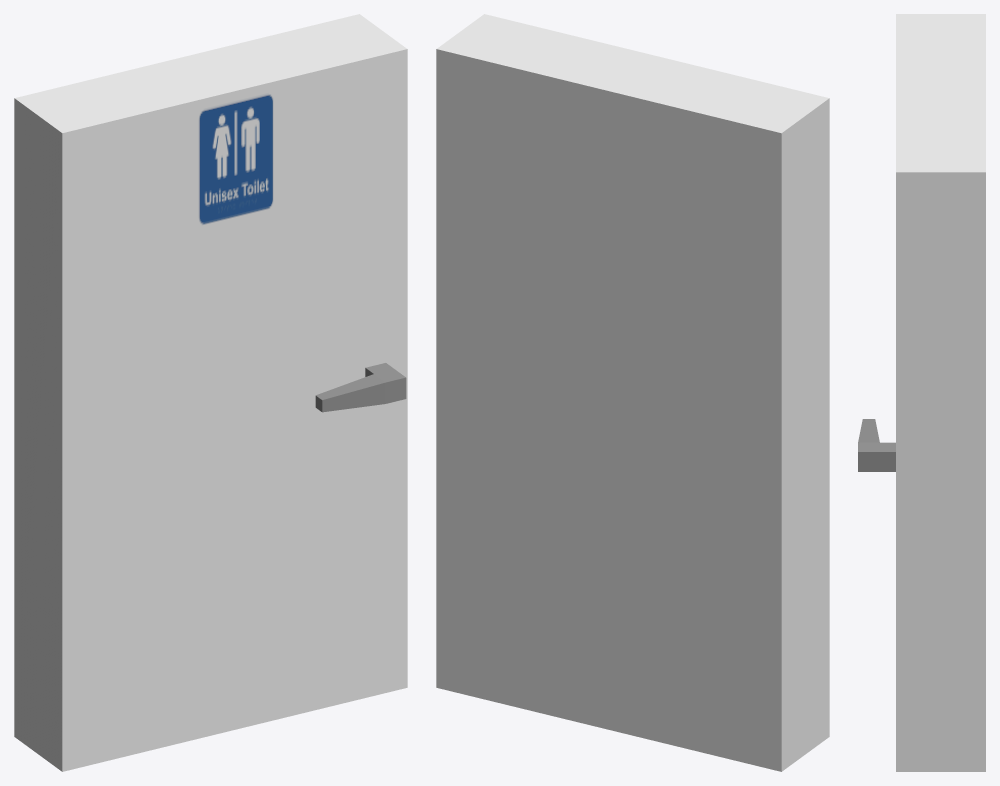
Rendered from Toilet_door.fbx.
3 renders of one model, left to right at view 1: azimuth 30°, elevation 25°; view 2: azimuth 150°, elevation 25°; view 3: azimuth 270°, elevation 25°, orthographic. The views are drawn at different scales.
Parts seen in each view (by area): view 1: pCube1, pCube2; view 2: pCube1; view 3: pCube1, pCube2.
Part boxes in pixels (x1,y1,x2,y2): pCube1: (14, 14, 407, 771); pCube2: (315, 363, 406, 412); pCube1: (436, 14, 829, 771); pCube1: (896, 14, 985, 771); pCube2: (858, 419, 895, 471).
Size of the model in its own units: 7.92 by 14.01 by 2.71.
